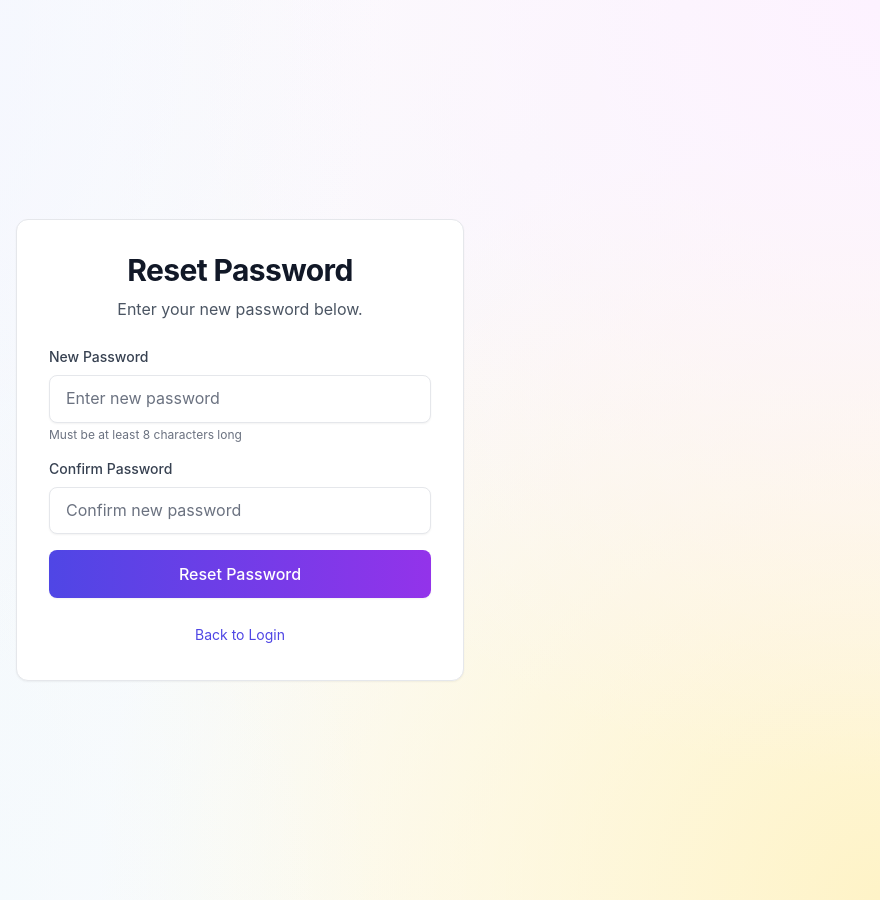
Test: Reset Password Page › should disable form during submission
Step 1. Type "NewPassword123!" into the password field with placeholder "Enter new password" → (240, 399), box [49,375,431,423]
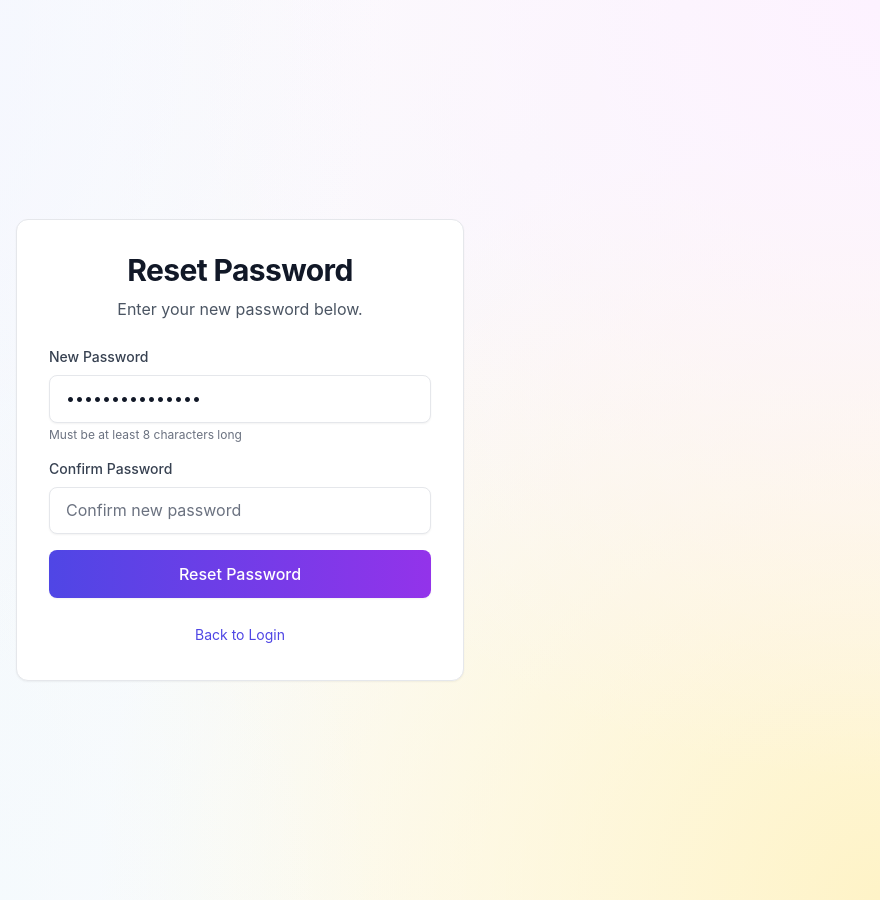
Step 2. Type "NewPassword123!" into the password field with placeholder "Confirm new password" → (240, 511), box [49,487,431,534]
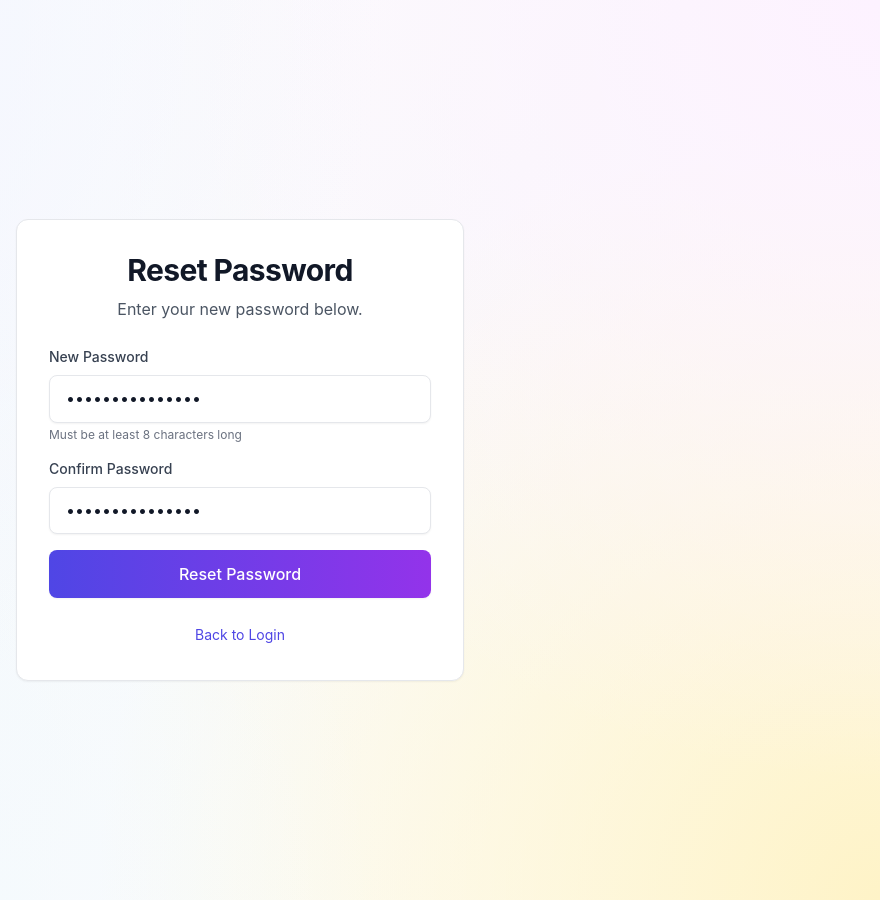
Step 3. Click the button "Reset Password" → (240, 574), box [49,550,431,598]
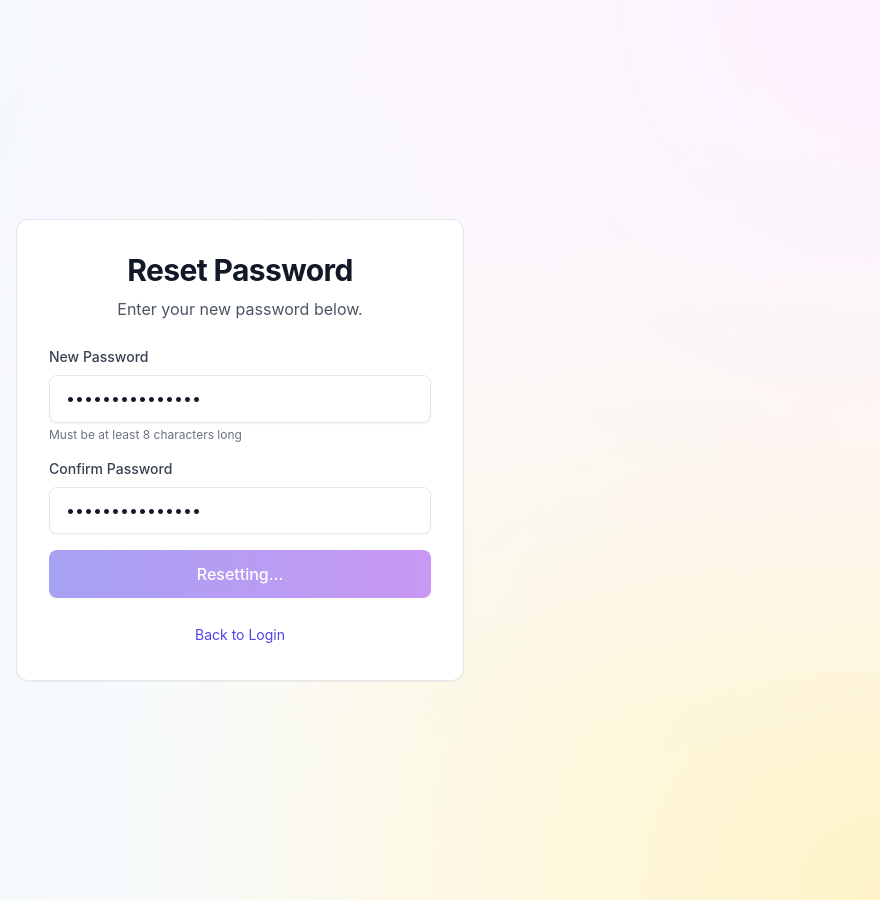
Expected: the button named "reset password" is disabled, [49,550,431,598]
Expected: the button named "reset password" reads "Resetting...", [49,550,431,598]
